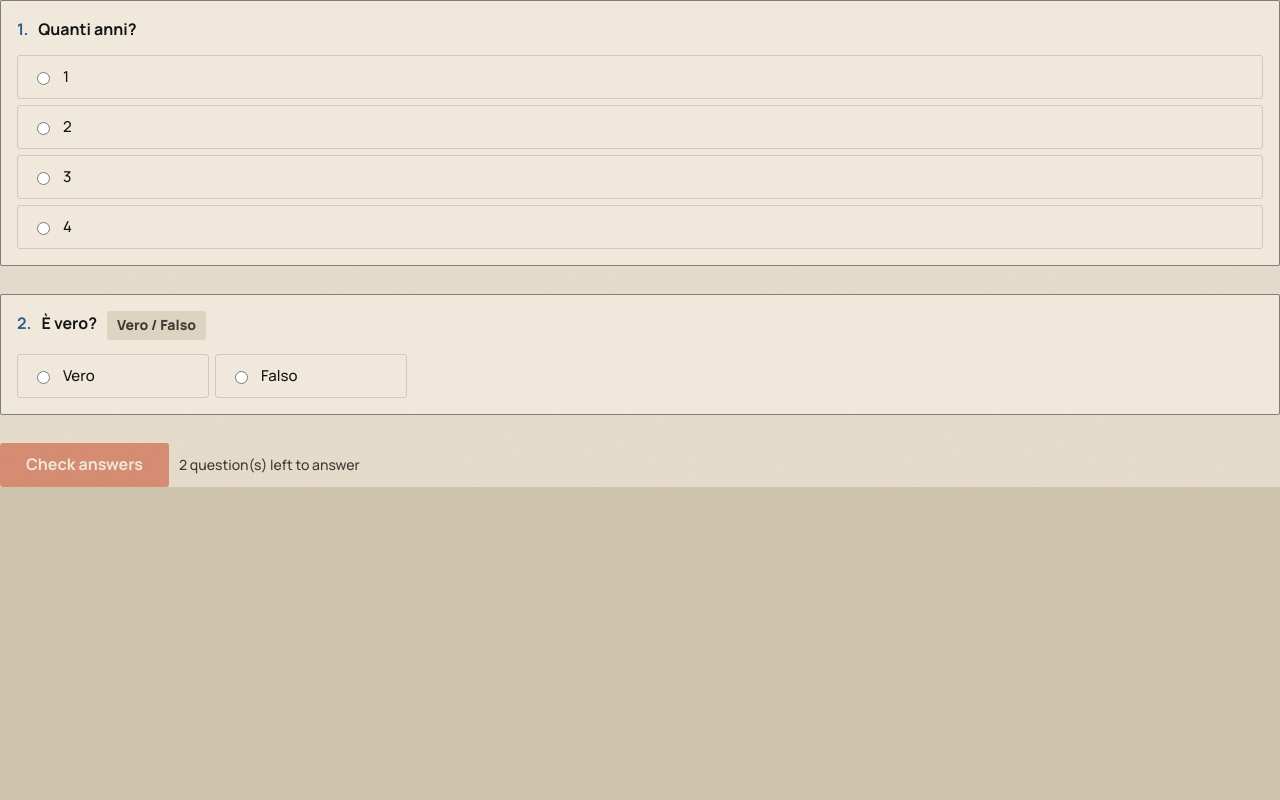
Test case: Quiz › congratulates and offers the next text on a perfect score
The width and height of the screenshot is (1280, 800).
Click the radio button labelled "3". click: {"x": 44, "y": 179}
box: [37,172,50,186]
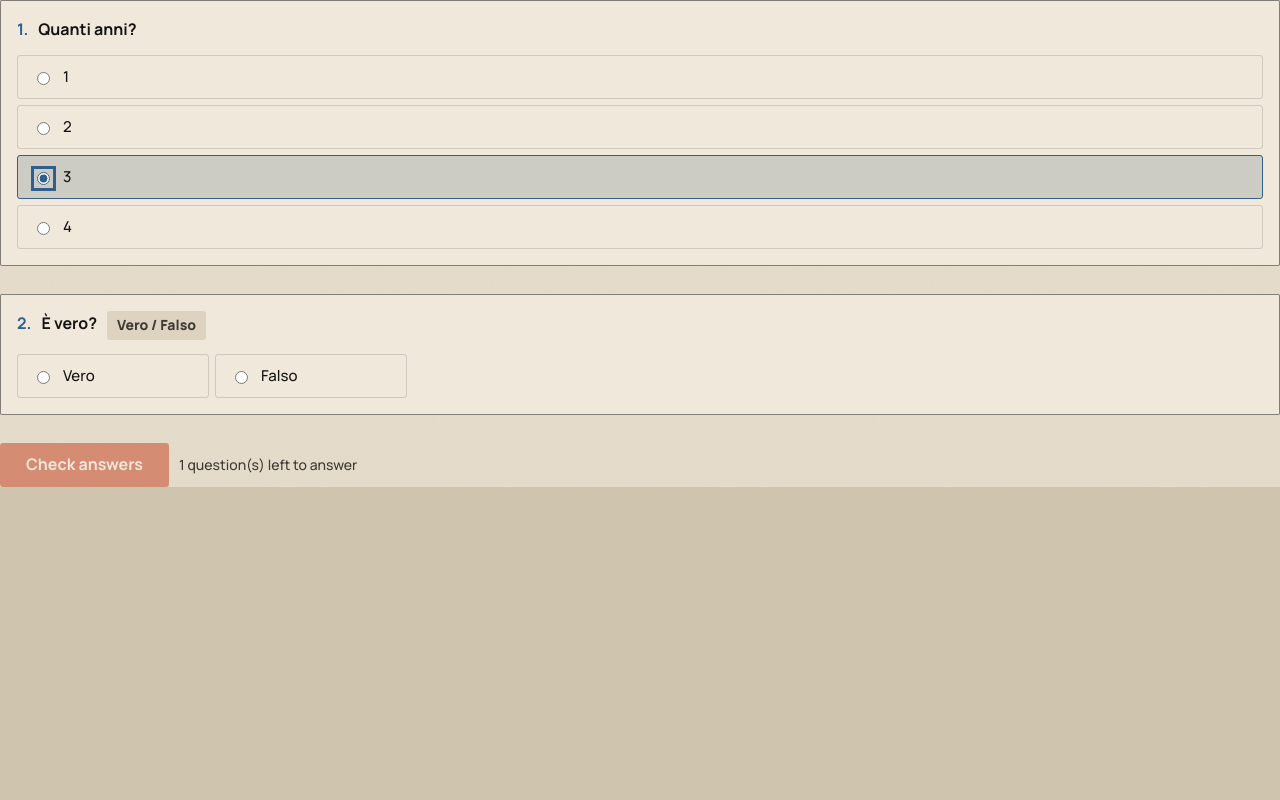
Click the radio button labelled "Falso". click: {"x": 242, "y": 378}
box: [235,371,248,384]
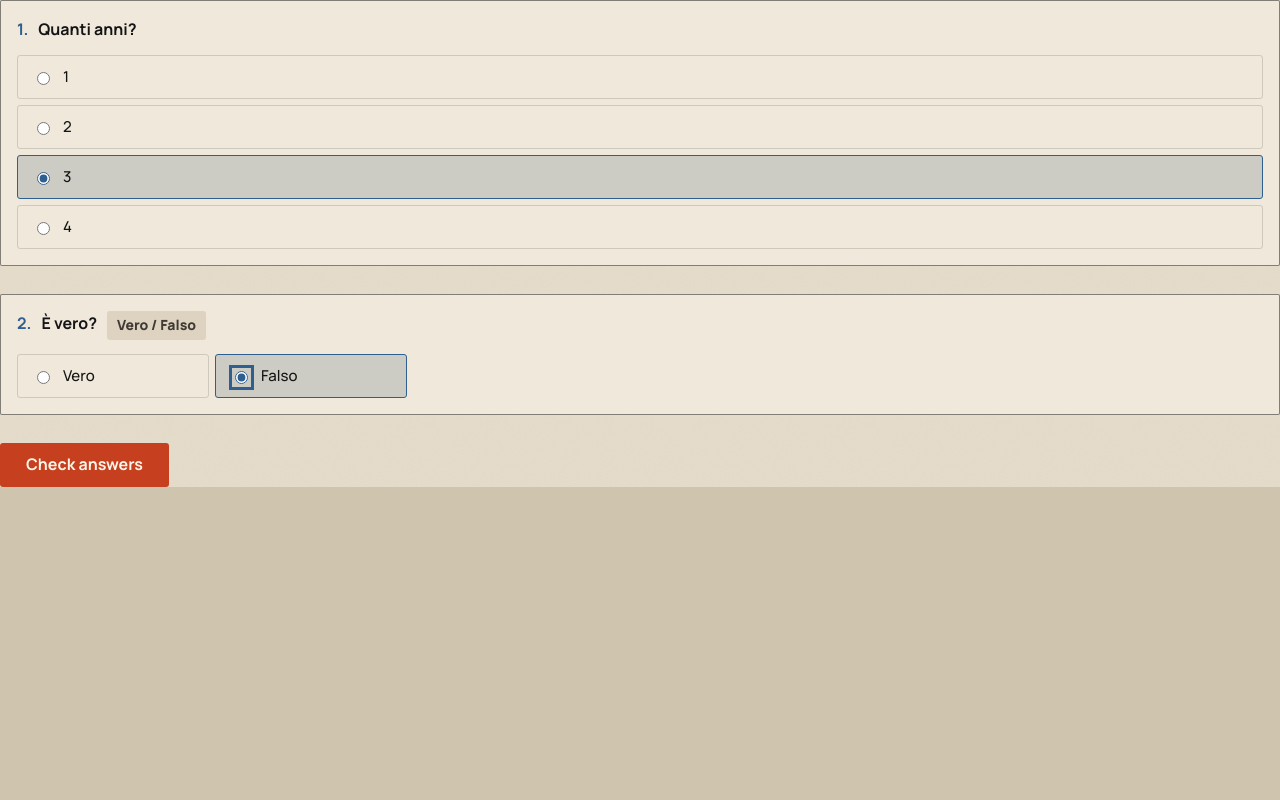
Click the button "Check answers". click: {"x": 84, "y": 465}
box: [0,443,169,487]
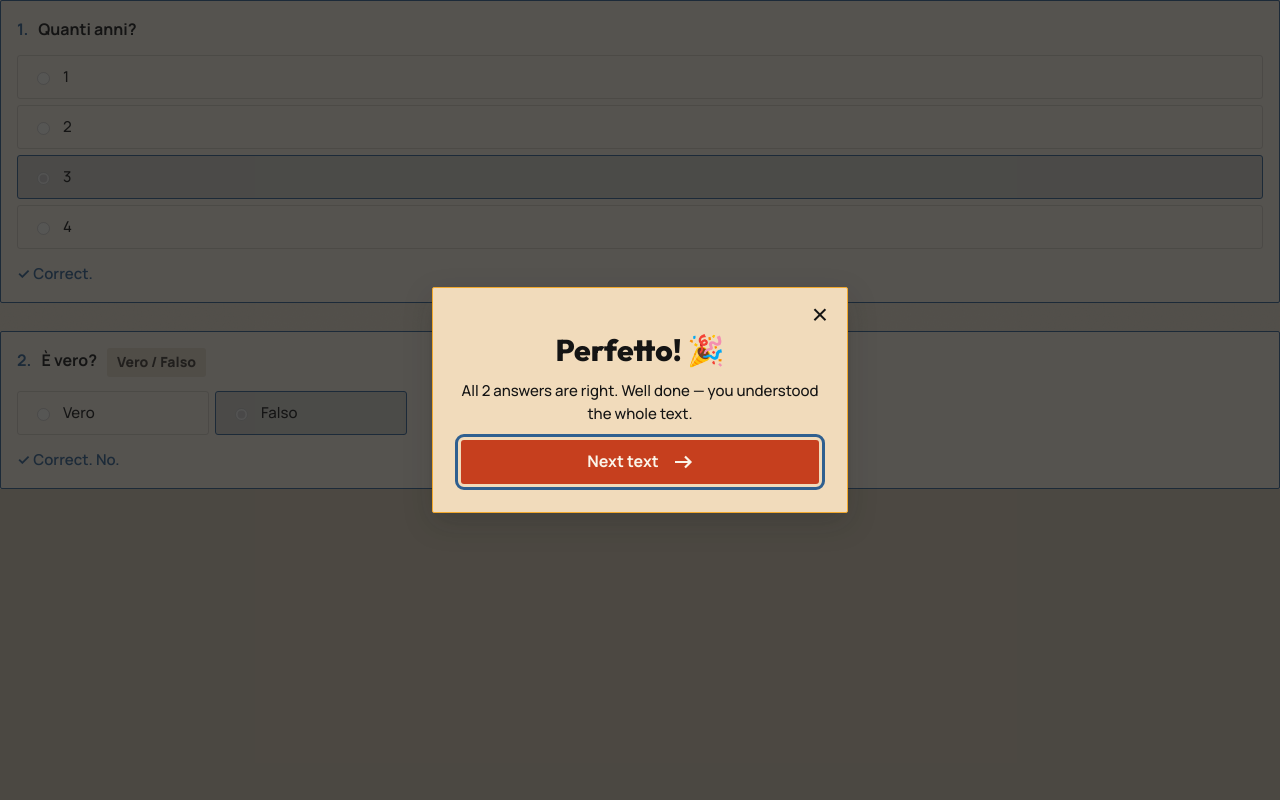
Result: the text "Perfetto! 🎉" is shown at [555,331,724,369]
